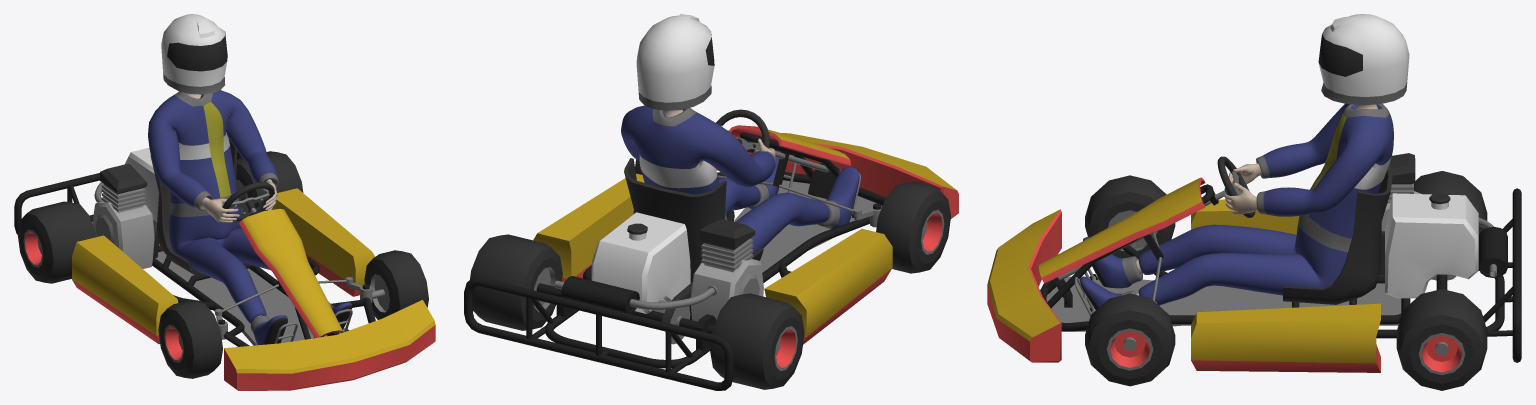
Rendered from GoCart.FBX.
3 renders of one model, left to right at view 1: azimuth 30°, elevation 25°; view 2: azimuth 150°, elevation 25°; view 3: azimuth 270°, elevation 25°, orthographic. The views are drawn at different scales.
Visible parts, largest first — view 1: Body, drivers, Chassis, Engine, RR_Wheel, FR_Wheel, FL_Wheel, RL_Wheel, Steerwheel; view 2: drivers, Body, Chassis, Engine, RR_Wheel, RL_Wheel, FR_Wheel, Steerwheel; view 3: drivers, Body, Engine, Chassis, RL_Wheel, FL_Wheel, FR_Wheel, RR_Wheel, Steerwheel.
Boxes of the visible parts, x1=… form: Body: x1=72, y1=138, x2=435, y2=390; drivers: x1=148, y1=14, x2=352, y2=345; Chassis: x1=14, y1=151, x2=384, y2=346; Engine: x1=92, y1=147, x2=159, y2=268; RR_Wheel: x1=17, y1=201, x2=96, y2=283; FR_Wheel: x1=158, y1=300, x2=222, y2=378; FL_Wheel: x1=364, y1=250, x2=428, y2=319; RL_Wheel: x1=236, y1=151, x2=303, y2=211; Steerwheel: x1=222, y1=182, x2=327, y2=336; drivers: x1=621, y1=14, x2=859, y2=254; Body: x1=533, y1=125, x2=958, y2=344; Chassis: x1=464, y1=132, x2=885, y2=390; Engine: x1=554, y1=212, x2=763, y2=323; RR_Wheel: x1=710, y1=293, x2=804, y2=389; RL_Wheel: x1=470, y1=234, x2=562, y2=330; FR_Wheel: x1=876, y1=181, x2=950, y2=273; Steerwheel: x1=716, y1=109, x2=829, y2=172; drivers: x1=1080, y1=14, x2=1409, y2=309; Body: x1=987, y1=162, x2=1392, y2=372; Engine: x1=1379, y1=153, x2=1507, y2=298; Chassis: x1=1040, y1=184, x2=1521, y2=362; RL_Wheel: x1=1396, y1=289, x2=1487, y2=390; FL_Wheel: x1=1085, y1=293, x2=1175, y2=386; FR_Wheel: x1=1085, y1=175, x2=1175, y2=258; RR_Wheel: x1=1414, y1=171, x2=1487, y2=236; Steerwheel: x1=1053, y1=156, x2=1255, y2=280.
Size of the model in its own units: 1.15 by 1.11 by 1.77.
